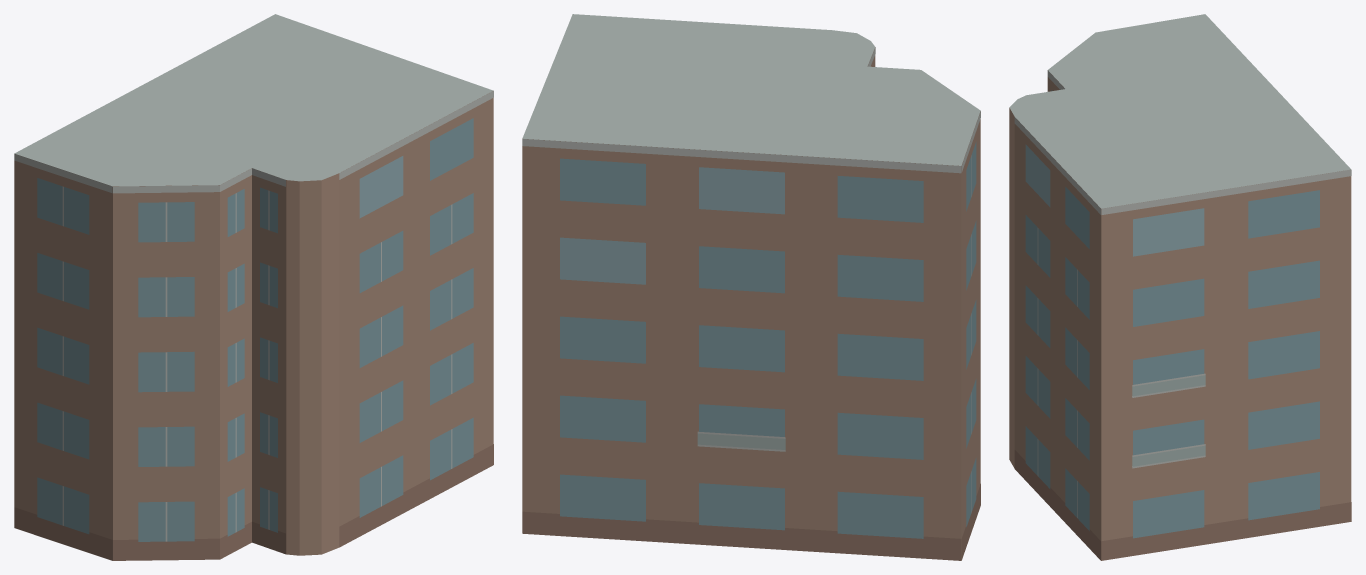
File: survey-upis-32720116.glb
3 renders of one model, left to right at view 1: azimuth 30°, elevation 25°; view 2: azimuth 150°, elevation 25°; view 3: azimuth 270°, elevation 25°, orthographic. The views are drawn at different scales.
Parts seen in each view (by area): view 1: survey-upis-32720116.tmp; view 2: survey-upis-32720116.tmp; view 3: survey-upis-32720116.tmp.
Part boxes in pixels (box(x1,y1,x2,y2)): survey-upis-32720116.tmp: box(14, 14, 493, 560); survey-upis-32720116.tmp: box(522, 14, 980, 560); survey-upis-32720116.tmp: box(1009, 14, 1351, 560).
Size of the model in its own units: 15.53 by 13.09 by 11.53.
